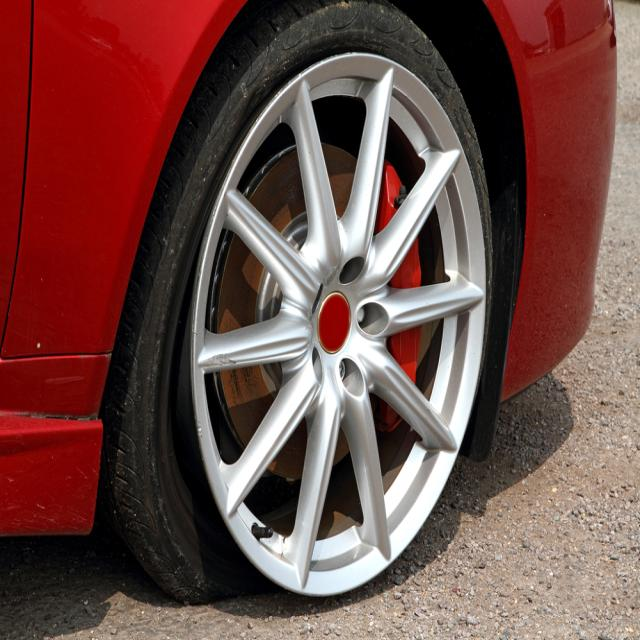tire flat: (100, 0, 493, 606)
